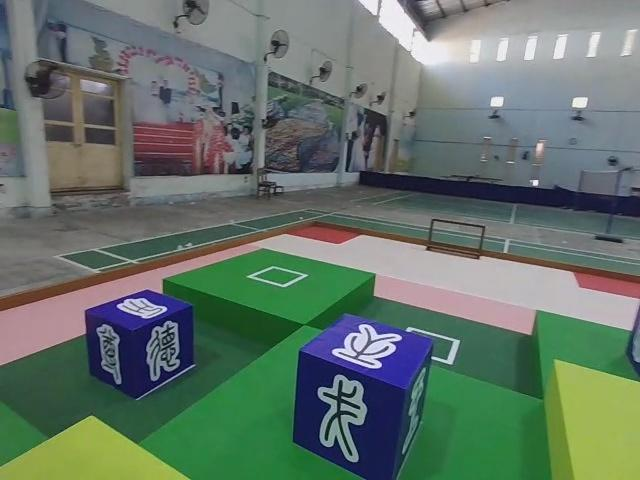R2 Fake Blue: (294, 313, 434, 480), (85, 289, 196, 401)
